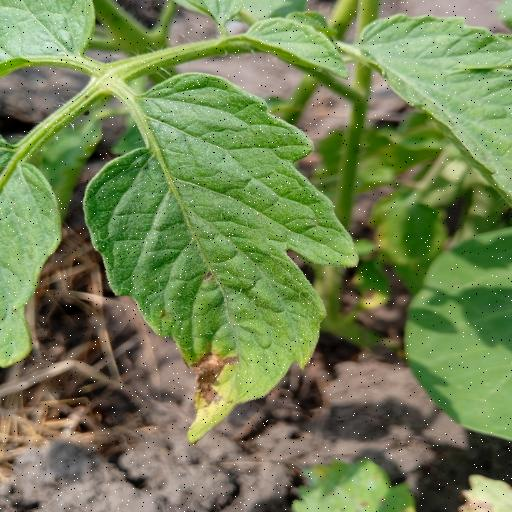Tomato_Brown_Spots: (79, 69, 358, 445)
